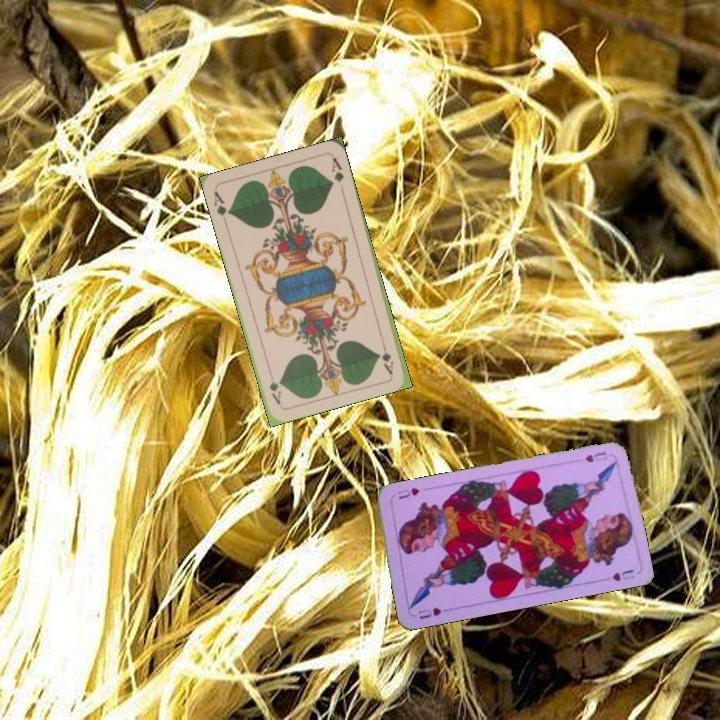GA: (210, 187, 233, 227), (378, 336, 396, 376)
HU: (414, 603, 444, 622), (581, 448, 613, 465)
